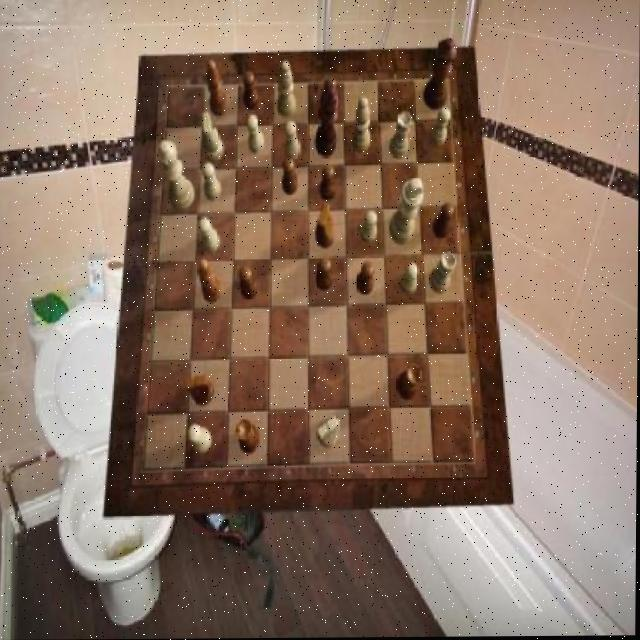bishop: (206, 60, 229, 118), (198, 257, 221, 303)
black-bishop: (315, 83, 340, 159)
black-king: (186, 376, 215, 407), (315, 204, 334, 250)
black-knight: (431, 205, 454, 240), (238, 268, 258, 300), (242, 72, 258, 111), (356, 262, 374, 296), (316, 258, 334, 292), (282, 160, 299, 196), (322, 78, 338, 116), (319, 166, 336, 200)
black-pawn: (422, 39, 457, 111)
black-queen: (396, 364, 421, 400), (237, 418, 261, 455)
black-rook: (277, 63, 297, 119), (351, 96, 370, 152)
white-bishop: (389, 178, 423, 245)
white-king: (201, 112, 224, 163), (317, 416, 341, 449)
white-knight: (429, 108, 450, 147), (198, 217, 220, 252), (201, 163, 221, 201), (246, 115, 264, 156), (188, 425, 212, 454), (285, 121, 301, 160), (401, 264, 420, 296), (360, 212, 377, 244)
white-pawn: (157, 142, 194, 211)
white-queen: (430, 253, 457, 294), (389, 113, 412, 159)
